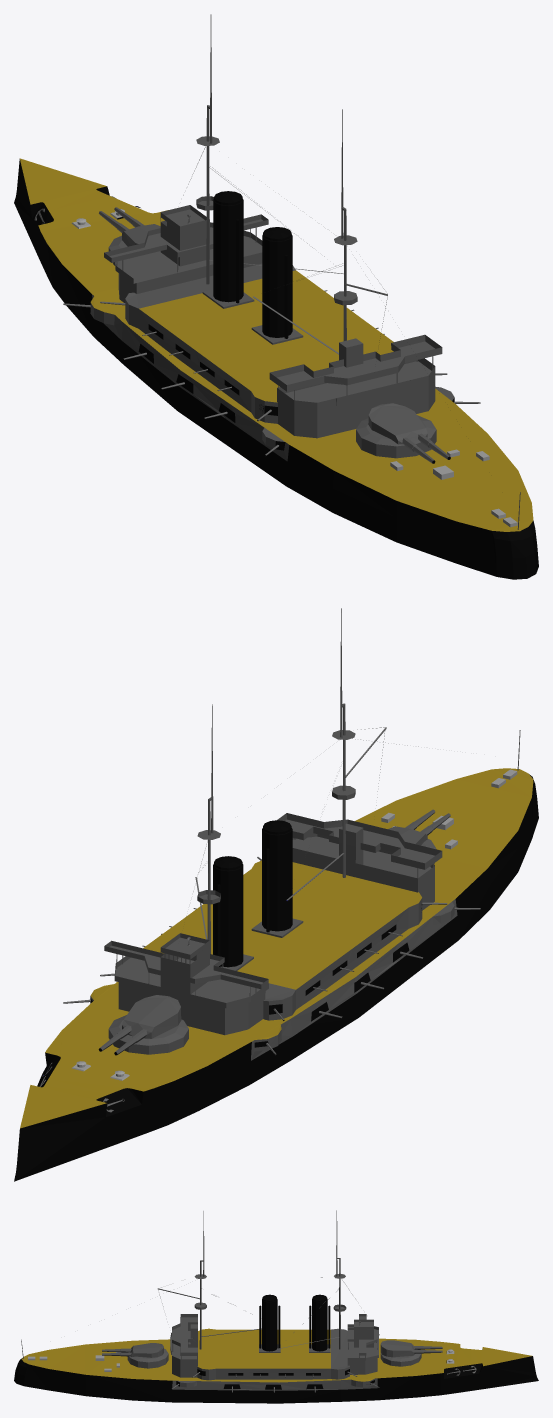
The model's file is mikasa.obj.
3 renders of one model, top to bottom at view 1: azimuth 30°, elevation 25°; view 2: azimuth 150°, elevation 25°; view 3: azimuth 270°, elevation 25°, orthographic. The views are drawn at different scales.
Parts seen in each view (by area): view 1: ShapeIndexedFaceSet.007_ShapeIndexedFaceSet.008, ShapeIndexedFaceSet.005_ShapeIndexedFaceSet.006, ShapeIndexedFaceSet_ShapeIndexedFaceSet.001, ShapeIndexedFaceSet.012_ShapeIndexedFaceSet.013, ShapeIndexedFaceSet.001_ShapeIndexedFaceSet.002; view 2: ShapeIndexedFaceSet.007_ShapeIndexedFaceSet.008, ShapeIndexedFaceSet.005_ShapeIndexedFaceSet.006, ShapeIndexedFaceSet_ShapeIndexedFaceSet.001, ShapeIndexedFaceSet.009_ShapeIndexedFaceSet.010, ShapeIndexedFaceSet.001_ShapeIndexedFaceSet.002; view 3: ShapeIndexedFaceSet_ShapeIndexedFaceSet.001, ShapeIndexedFaceSet.007_ShapeIndexedFaceSet.008, ShapeIndexedFaceSet.005_ShapeIndexedFaceSet.006, ShapeIndexedFaceSet.009_ShapeIndexedFaceSet.010, ShapeIndexedFaceSet.012_ShapeIndexedFaceSet.013, ShapeIndexedFaceSet.004_ShapeIndexedFaceSet.005, ShapeIndexedFaceSet.001_ShapeIndexedFaceSet.002.
Part boxes in pixels (x1,y1,x2,y2): ShapeIndexedFaceSet.007_ShapeIndexedFaceSet.008: (20, 158, 533, 531); ShapeIndexedFaceSet.005_ShapeIndexedFaceSet.006: (90, 14, 520, 529); ShapeIndexedFaceSet_ShapeIndexedFaceSet.001: (14, 159, 538, 579); ShapeIndexedFaceSet.012_ShapeIndexedFaceSet.013: (368, 403, 427, 444); ShapeIndexedFaceSet.001_ShapeIndexedFaceSet.002: (71, 209, 517, 527); ShapeIndexedFaceSet.007_ShapeIndexedFaceSet.008: (20, 768, 533, 1128); ShapeIndexedFaceSet.005_ShapeIndexedFaceSet.006: (90, 608, 520, 1060); ShapeIndexedFaceSet_ShapeIndexedFaceSet.001: (14, 774, 538, 1181); ShapeIndexedFaceSet.009_ShapeIndexedFaceSet.010: (122, 995, 181, 1038); ShapeIndexedFaceSet.001_ShapeIndexedFaceSet.002: (71, 769, 517, 1080); ShapeIndexedFaceSet_ShapeIndexedFaceSet.001: (14, 1294, 538, 1403); ShapeIndexedFaceSet.007_ShapeIndexedFaceSet.008: (21, 1328, 531, 1382); ShapeIndexedFaceSet.005_ShapeIndexedFaceSet.006: (21, 1210, 421, 1390); ShapeIndexedFaceSet.009_ShapeIndexedFaceSet.010: (380, 1340, 414, 1357); ShapeIndexedFaceSet.012_ShapeIndexedFaceSet.013: (130, 1343, 163, 1357); ShapeIndexedFaceSet.004_ShapeIndexedFaceSet.005: (158, 1288, 476, 1374); ShapeIndexedFaceSet.001_ShapeIndexedFaceSet.002: (28, 1349, 454, 1371).
Bounding box in the file's own units: 84.13 × 120 × 336.
